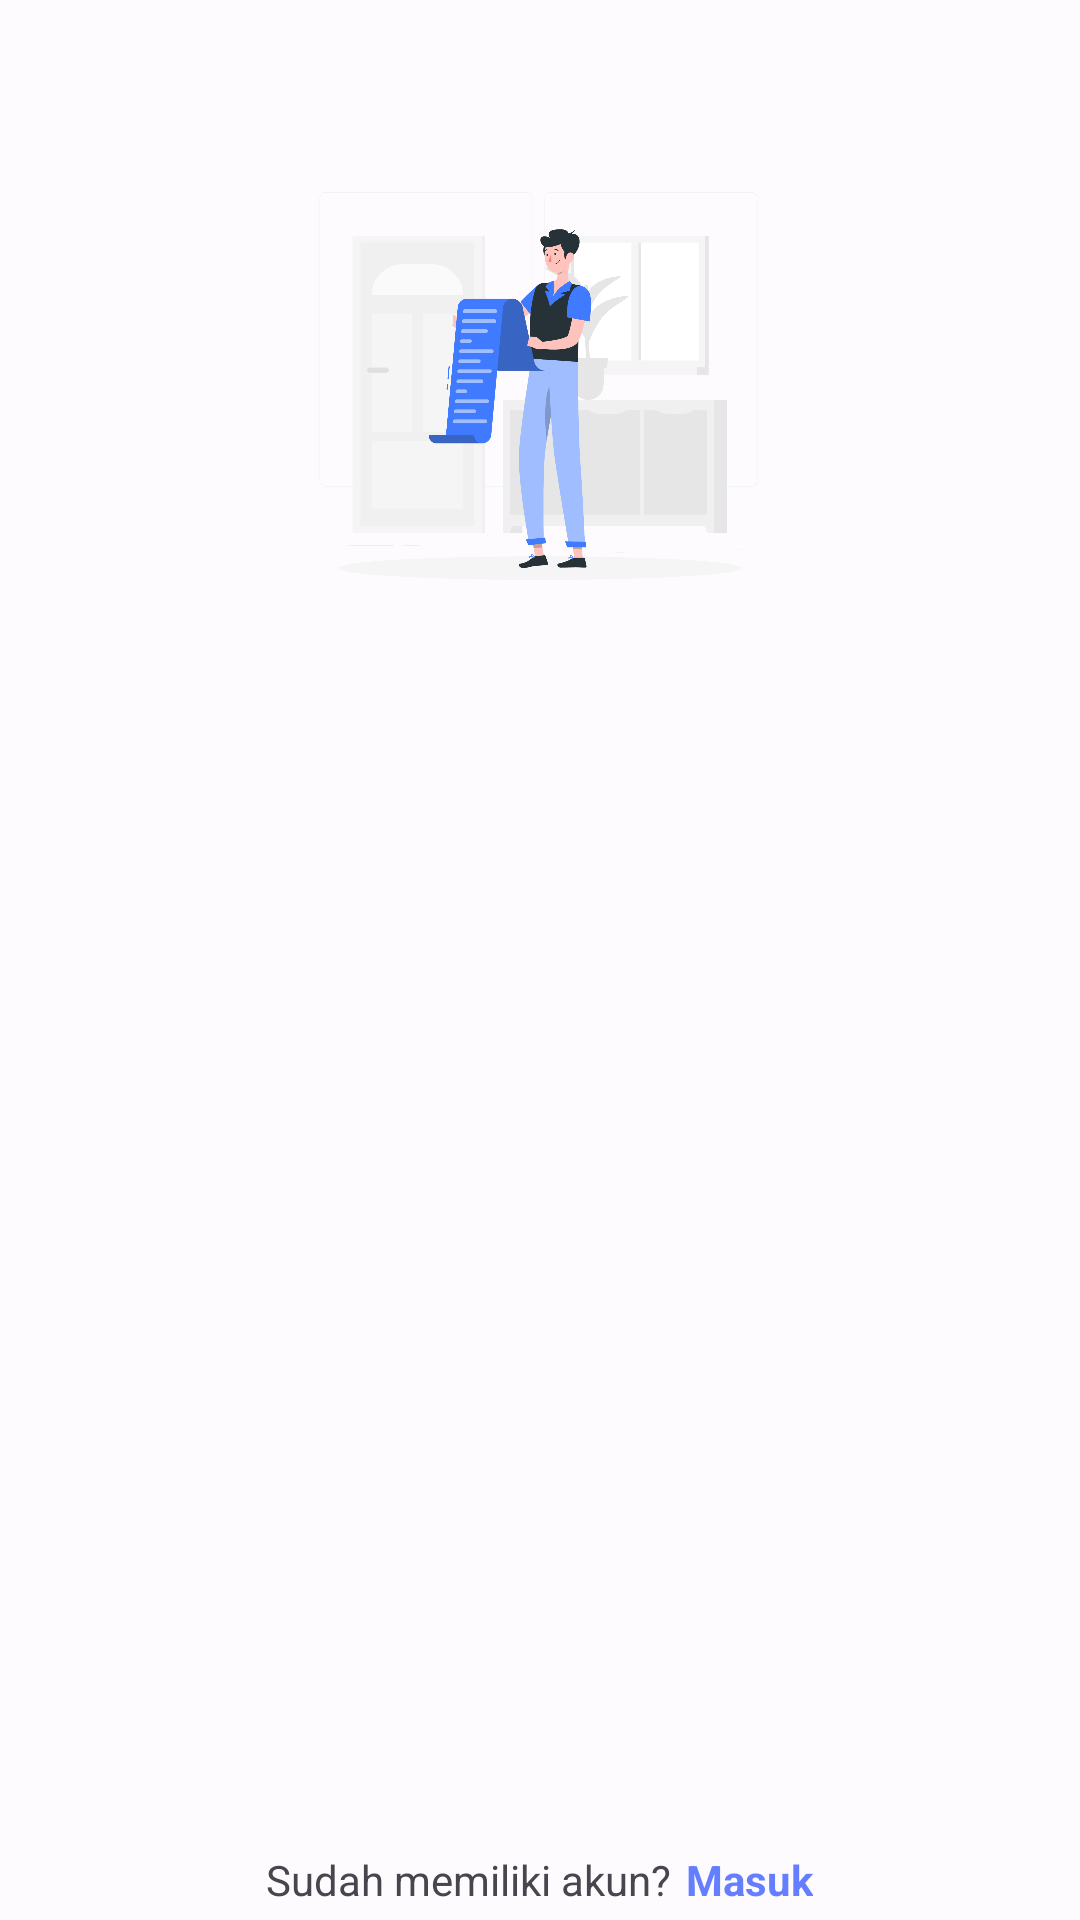

Where to tap for icons on this 1080x1920 app screen, as (x,y):
register: (547,398)
